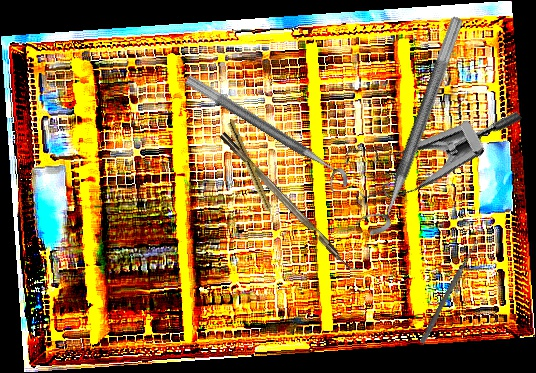Chopper: (219, 125, 364, 278)
Fixation Ring: (353, 8, 466, 242), (176, 73, 353, 199)
Handpiece: (225, 120, 278, 225)
Speculum: (328, 51, 524, 236)
Surgical Spoon: (419, 237, 481, 345)
